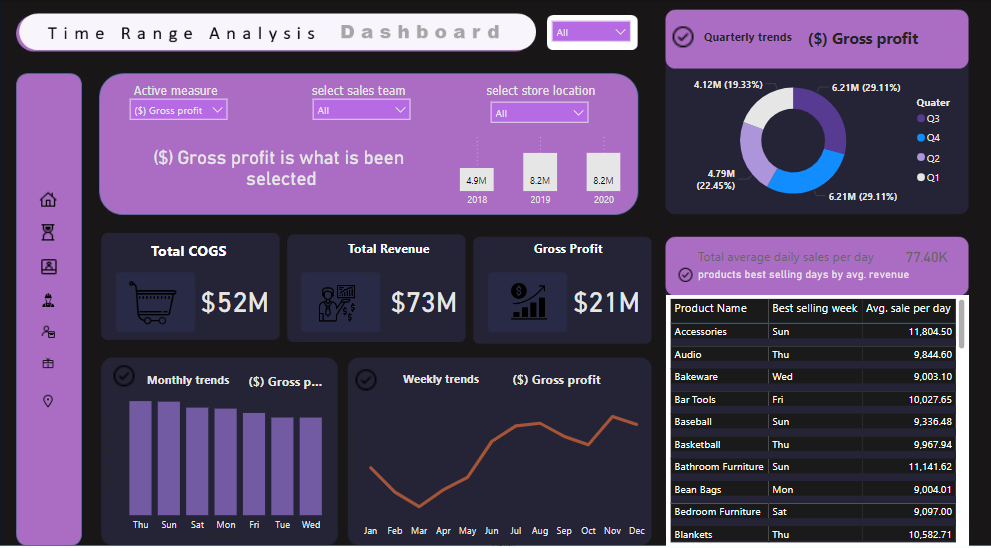

Layout of this report page (visuals, bound fields, positions):
{"tool":"powerbi","page":{"name":"Time Range Analysis","canvas":[1280,720],"ordinal":6},"visuals":[{"type":"donutChart","fields":{"Y":["change measures.Active measure"],"Category":["Calender.Quater"]},"box":[860.3,86.5,391.2,189.9],"z":0},{"type":"card","fields":{"Values":["change measures.selected measure"]},"box":[1031.8,22.7,164.4,53.9],"z":1000},{"type":"image","box":[853.9,27.6,58.6,42.8],"z":2000},{"type":"textbox","box":[903.8,33.2,139.6,43.9],"z":3000},{"type":"textbox","box":[191.3,306.1,129,35.4],"z":4000},{"type":"card","fields":{"Values":["measure-first (2).COGS"]},"box":[247.9,354.8,113,62.3],"z":5000},{"type":"textbox","box":[434.8,305.8,136.8,37.4],"z":6000},{"type":"card","fields":{"Values":["measure-first (2).Total Revenue"]},"box":[493.2,354.3,110.6,62.4],"z":7000},{"type":"card","fields":{"Values":["measure-first (2).Profit margin"]},"box":[720,354.3,127.6,63.8],"z":8000},{"type":"image","box":[150.5,356.6,94.9,70.7],"z":9000},{"type":"image","box":[396,361.6,79.8,59.6],"z":10000},{"type":"image","box":[627.3,358.6,114.1,59.6],"z":11000},{"type":"textbox","box":[684.6,304.7,110.6,36.9],"z":12000},{"type":"columnChart","fields":{"Category":["Calender.Weekdays"],"Y":["change measures.Active measure"]},"box":[131.9,494.7,305.3,209.6],"z":13000},{"type":"lineChart","fields":{"Category":["Calender.Month"],"Y":["change measures.Active measure"]},"box":[444.6,502.4,395.2,209.6],"z":14000},{"type":"card","fields":{"Values":["change measures.selected measure"]},"box":[649.1,469.1,140.3,42.5],"z":15000},{"type":"image","box":[445,469.1,58.1,42.5],"z":16000},{"type":"textbox","box":[182.1,470.5,132.9,34.6],"z":17000},{"type":"card","fields":{"Values":["change measures.selected measure"]},"box":[313.2,474.8,112,38.3],"z":18000},{"type":"image","box":[133.2,464.9,58.1,42.5],"z":19000},{"type":"textbox","box":[507.7,473.2,127.6,33.2],"z":20000},{"type":"textbox","box":[158.7,102,138.9,38.3],"z":21000},{"type":"slicer","fields":{"Values":["change measures.Value"]},"box":[158.7,117.6,146,43.9],"z":22000},{"type":"textbox","box":[613.7,102,170.1,38.3],"z":23000},{"type":"textbox","box":[395.4,102,138.9,38.3],"z":24000},{"type":"slicer","fields":{"Values":["Dim_Sales Teams.Sales Team"]},"box":[395.4,117.6,146,43.9],"z":25000},{"type":"columnChart","fields":{"Category":["Calender.Year"],"Y":["change measures.Active measure"]},"box":[589.3,162.3,217.2,113.9],"z":26000},{"type":"slicer","fields":{"Values":["Dim_StoreLocations.County"]},"box":[625,121.9,146,43.9],"z":27000},{"type":"card","fields":{"Values":["change measures.Captions"]},"box":[174.6,159,373.8,114.8],"z":28000},{"type":"textbox","box":[897.2,314.6,265,31.2],"z":29000},{"type":"textbox","box":[896.7,338.8,333.6,31.6],"z":30000},{"type":"image","box":[865.1,338.8,44.1,31.6],"z":31000},{"type":"card","fields":{"Values":["Measure- best selling days.Avg. sale per day"]},"box":[1162.2,318.9,68,26.9],"z":32000},{"type":"tableEx","fields":{"Values":["Dim_Products.Product Name","Measure- best selling days.Best selling week","Measure- best selling days.Avg. sale per day"]},"box":[860,380.7,391.4,323.6],"z":33000},{"type":"slicer","fields":{"Values":["Calender.Year"]},"box":[703.7,16.4,121.6,53.7],"z":34000},{"type":"shape","box":[7.1,228.2,112,306.1],"z":35000},{"type":"image","box":[45.3,238.1,34,38.3],"z":36000,"group":"g1"},{"type":"actionButton","box":[48.5,238.3,60.7,39.3],"z":36000},{"type":"actionButton","box":[48.2,323.1,70.9,38.3],"z":37000},{"type":"image","box":[44.5,282.2,35.6,37],"z":38000,"group":"g1"},{"type":"actionButton","box":[46.8,367.1,86.5,38.3],"z":38000},{"type":"actionButton","box":[46.7,408.7,87,38],"z":39000},{"type":"image","box":[45.2,324,35.6,37.7],"z":40000,"group":"g1"},{"type":"actionButton","box":[46.6,451.7,72.4,38.8],"z":40000},{"type":"actionButton","box":[46.6,494.8,72.4,38.8],"z":41000},{"type":"actionButton","box":[48.2,279.2,102,39.7],"z":42000},{"type":"image","box":[47.9,370.5,29.5,30.1],"z":42000,"group":"g1"},{"type":"group","id":"g1","title":"Group 1","box":[44.5,238.1,36.3,293.4],"z":43000},{"type":"image","box":[48.6,413,28.8,28.8],"z":44000,"group":"g1"},{"type":"image","box":[50,454.1,27.4,29.5],"z":46000,"group":"g1"},{"type":"image","box":[46.6,502,30.8,29.5],"z":48000,"group":"g1"}]}

Visuals, with their boxes on the page's 1280x720 design canvas (x1, y1, x2, y2). These are canvas units, not pixel positions in the 991x548 screenshot, which may show the page scaled, cropped or inside an application window:
donutChart - change measures.Active measure x Calender.Quater: 860 86 1252 276
card - change measures.selected measure: 1032 23 1196 77
image: 854 28 912 70
textbox: 904 33 1043 77
textbox: 191 306 320 342
card - measure-first (2).COGS: 248 355 361 417
textbox: 435 306 572 343
card - measure-first (2).Total Revenue: 493 354 604 417
card - measure-first (2).Profit margin: 720 354 848 418
image: 150 357 245 427
image: 396 362 476 421
image: 627 359 741 418
textbox: 685 305 795 342
columnChart - Calender.Weekdays x change measures.Active measure: 132 495 437 704
lineChart - Calender.Month x change measures.Active measure: 445 502 840 712
card - change measures.selected measure: 649 469 789 512
image: 445 469 503 512
textbox: 182 470 315 505
card - change measures.selected measure: 313 475 425 513
image: 133 465 191 507
textbox: 508 473 635 506
textbox: 159 102 298 140
slicer - change measures.Value: 159 118 305 162
textbox: 614 102 784 140
textbox: 395 102 534 140
slicer - Dim_Sales Teams.Sales Team: 395 118 541 162
columnChart - Calender.Year x change measures.Active measure: 589 162 806 276
slicer - Dim_StoreLocations.County: 625 122 771 166
card - change measures.Captions: 175 159 548 274
textbox: 897 315 1162 346
textbox: 897 339 1230 370
image: 865 339 909 370
card - Measure- best selling days.Avg. sale per day: 1162 319 1230 346
tableEx - Dim_Products.Product Name x Measure- best selling days.Best selling week: 860 381 1251 704
slicer - Calender.Year: 704 16 825 70
shape: 7 228 119 534
image: 45 238 79 276
actionButton: 48 238 109 278
actionButton: 48 323 119 361
image: 44 282 80 319
actionButton: 47 367 133 405
actionButton: 47 409 134 447
image: 45 324 81 362
actionButton: 47 452 119 490
actionButton: 47 495 119 534
actionButton: 48 279 150 319
image: 48 370 77 401
"Group 1" group: 44 238 81 532
image: 49 413 77 442
image: 50 454 77 484
image: 47 502 77 532
